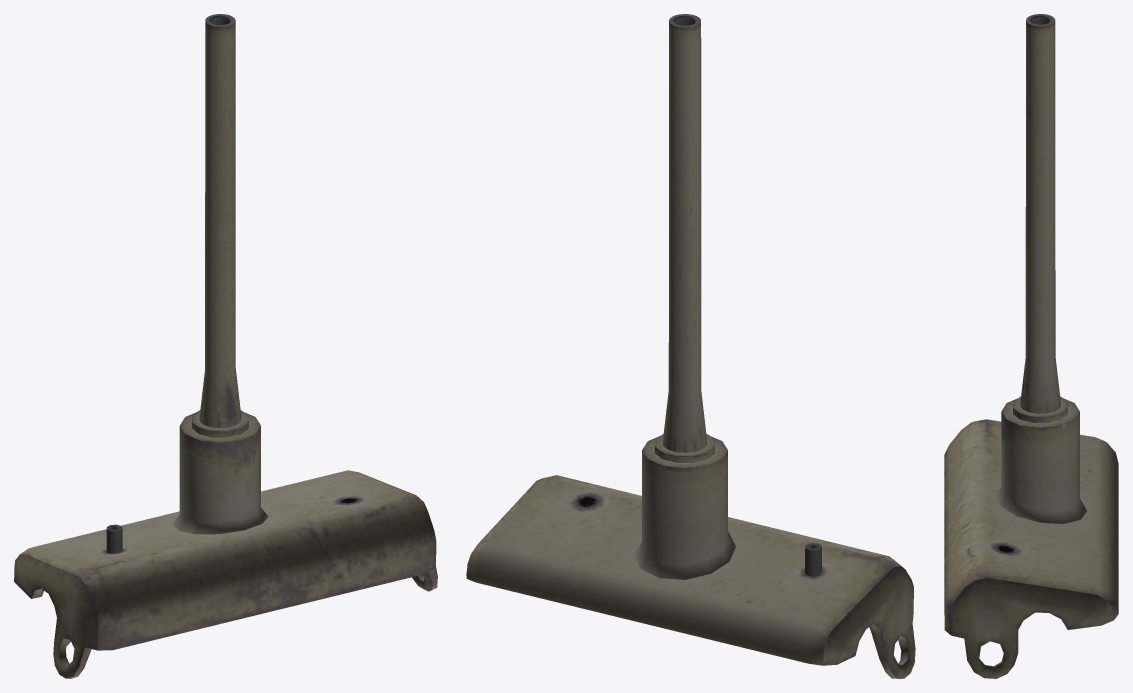
The model's file is Gun_07.glb.
3 views of the same model, side by side, from view 1: azimuth 30°, elevation 25°; view 2: azimuth 150°, elevation 25°; view 3: azimuth 270°, elevation 25° (orthographic). The views are drawn at different scales.
Visible parts, largest first — view 1: set_0_group_0; view 2: set_0_group_0; view 3: set_0_group_0.
Part boxes in pixels (box(x1,y1,x2,y2)): set_0_group_0: box(14, 14, 437, 678); set_0_group_0: box(466, 14, 915, 678); set_0_group_0: box(944, 14, 1118, 678).
Size of the model in its own units: 1.23 by 1.88 by 0.5169.
Materials: 1 (1 with a texture image).
